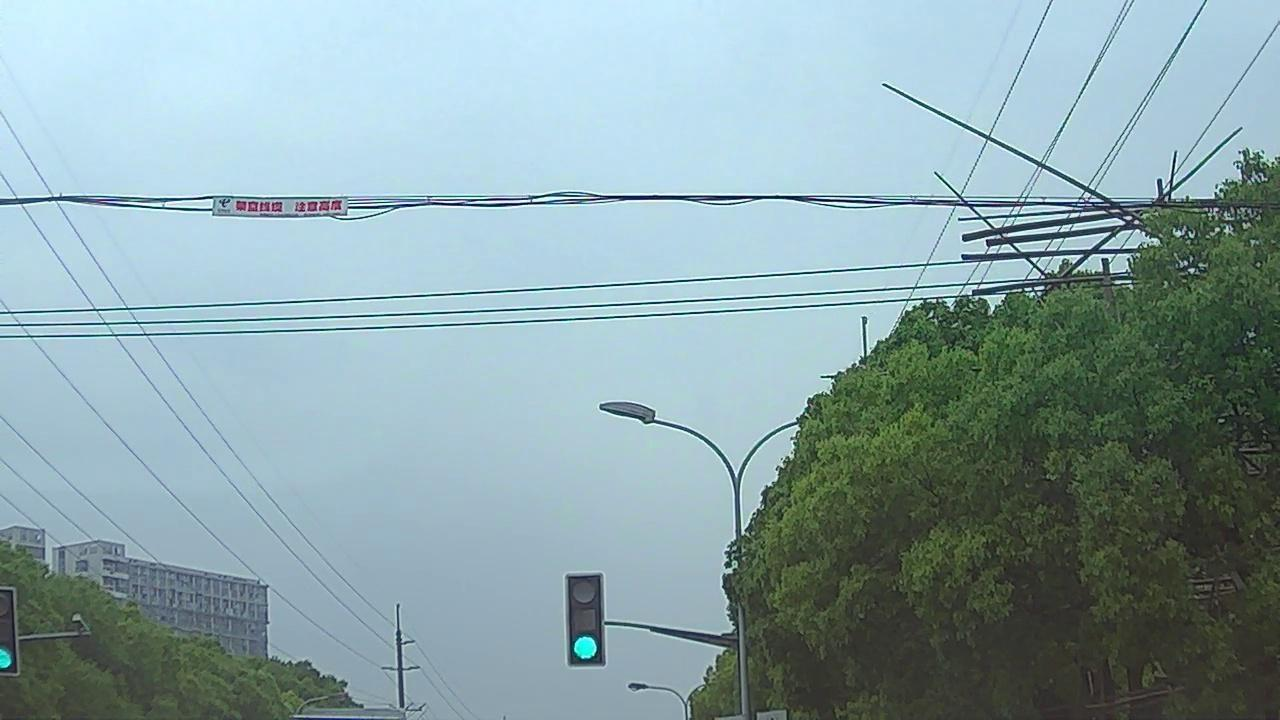traffic_light: (567, 575, 606, 668)
